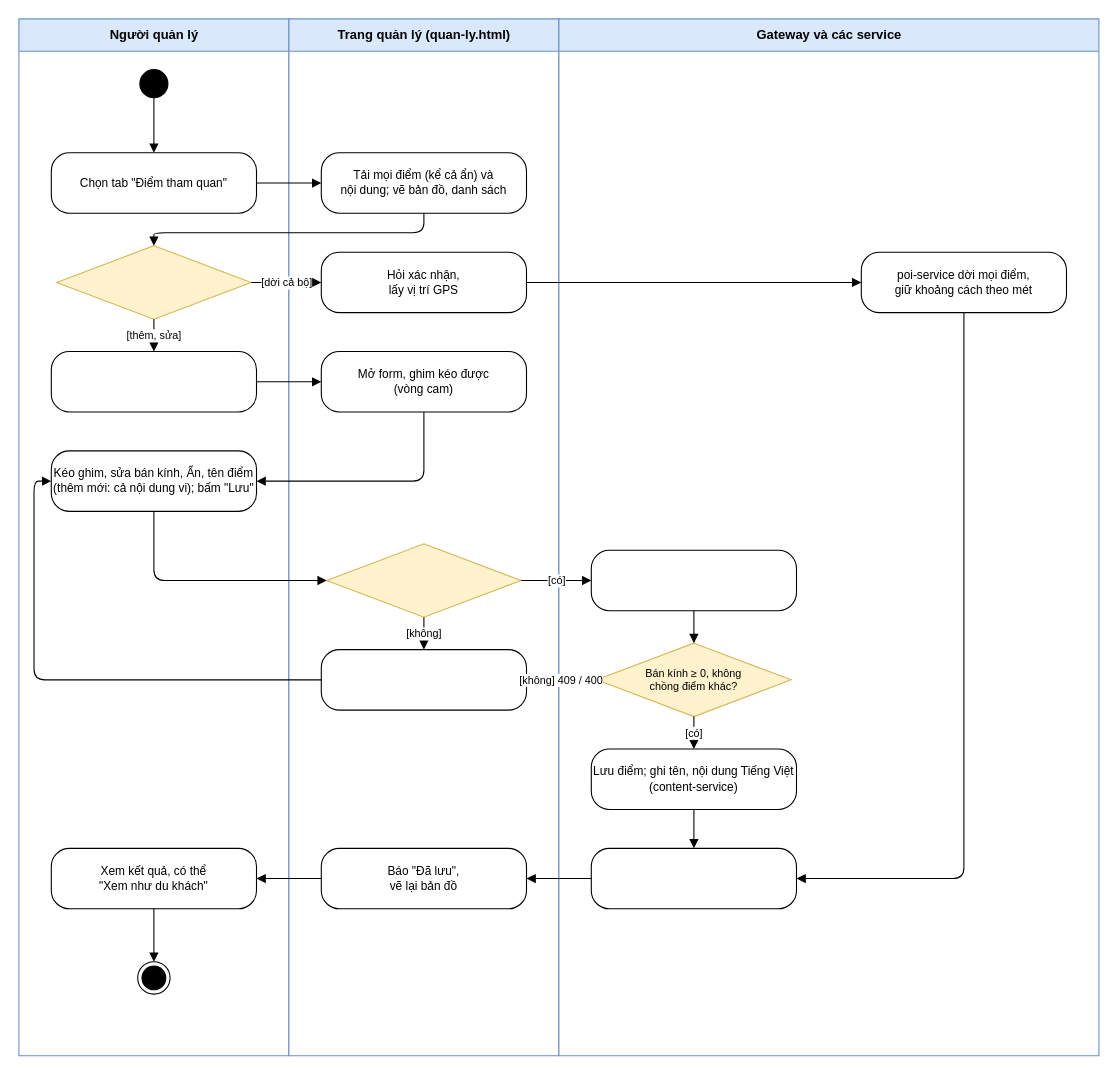
Some shapes in this 1118 by 1075 pixel diagram are drawn without their labels. The centre of each missing label's shape, as x and y in pixels:
Báo lỗi trên form: (x=423, y=679)
Bấm bản đồ, "Dùng vị trí của tôi" hoặc chọn điểm có sẵn: (x=153, y=381)
Có tên và nội dung Tiếng Việt?: (x=423, y=580)
Gateway kiểm mật khẩu, gửi tới poi-service: (x=693, y=580)
Gửi nhật ký sang analytics (không chờ): (x=693, y=878)
Việc cần làm?: (x=153, y=282)
